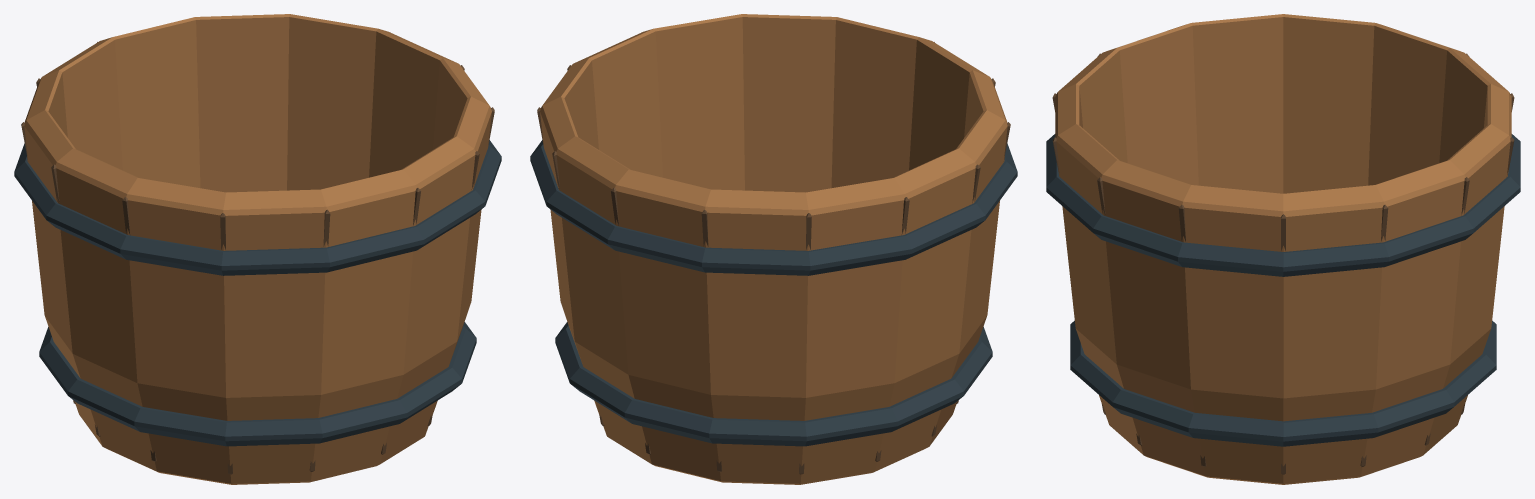
Rendered from b11_half_whiskey_barrel_planter.glb.
3 views of the same model, side by side, from view 1: azimuth 30°, elevation 25°; view 2: azimuth 150°, elevation 25°; view 3: azimuth 270°, elevation 25° (orthographic).
Parts seen in each view (by area): view 1: b11_half_whiskey_barrel_planter; view 2: b11_half_whiskey_barrel_planter; view 3: b11_half_whiskey_barrel_planter.
Part boxes in pixels (x1,y1,x2,y2): b11_half_whiskey_barrel_planter: (14,14,501,484); b11_half_whiskey_barrel_planter: (530,14,1017,484); b11_half_whiskey_barrel_planter: (1046,14,1520,484).
Bounding box in the file's own units: 0.6849 × 0.4775 × 0.6677.
